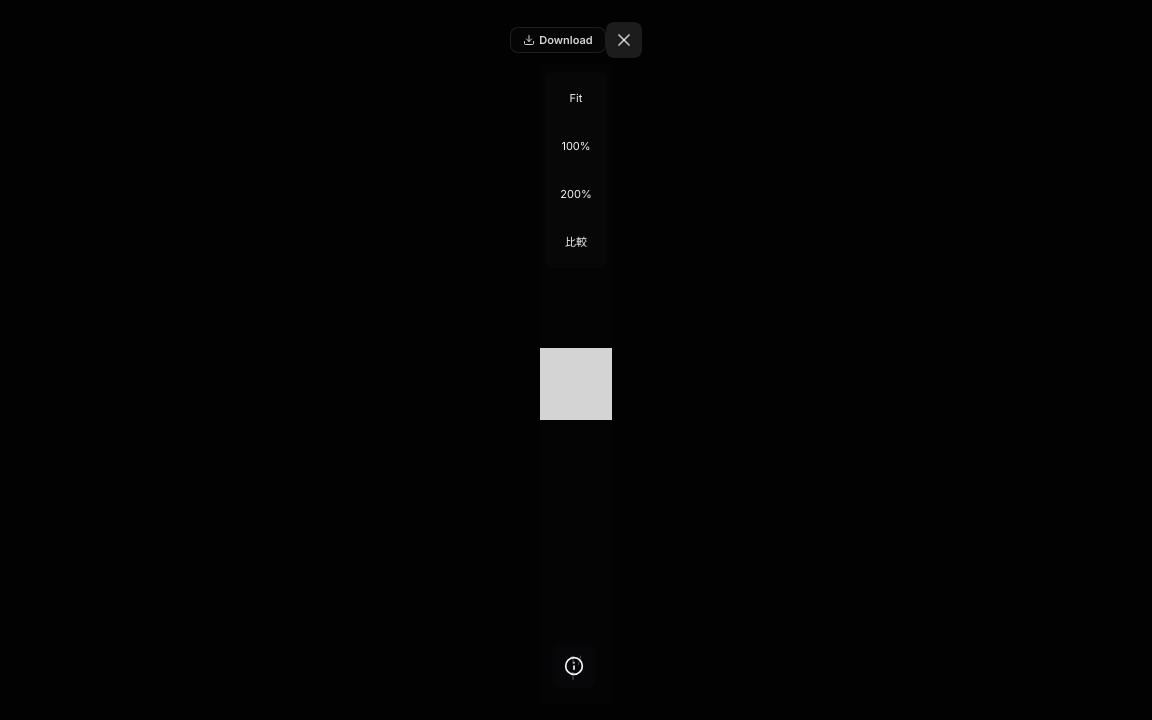
Test: HistoryModalPreview › fetches server metadata when not found in localStorage
Click the button named "show info".
click(574, 666)  # box [552,644,596,688]
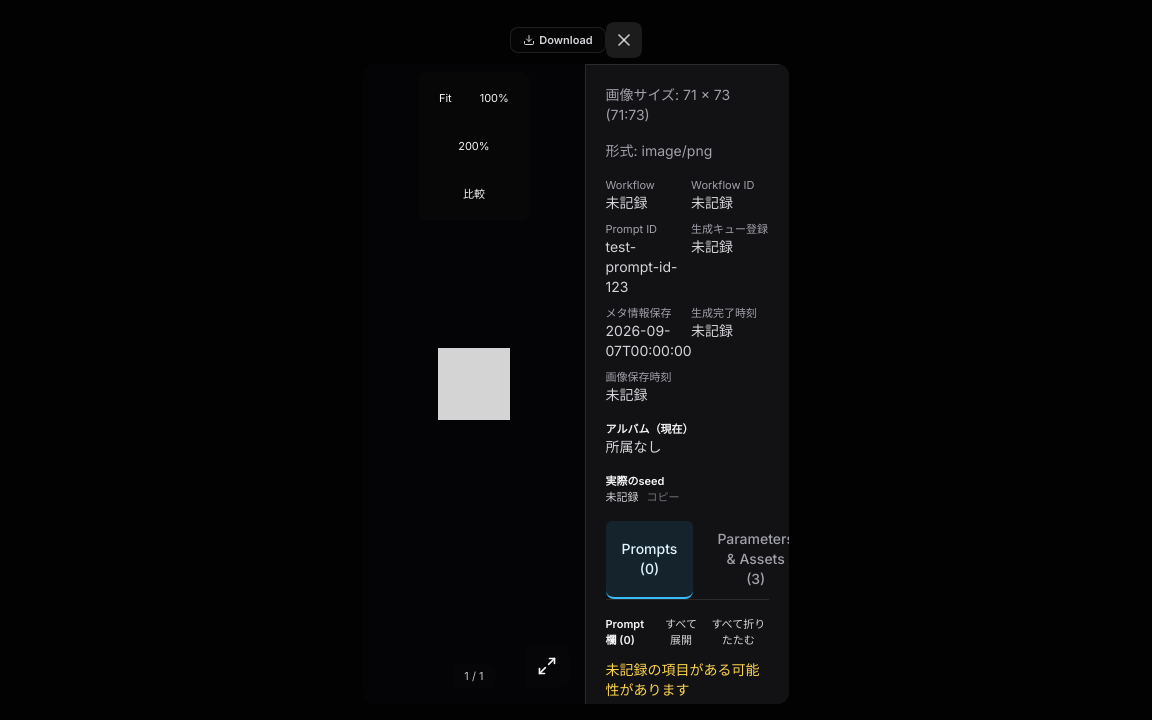
Click the tab "Parameters & Assets (3)".
click(756, 560)  # box [701,521,810,599]
(page scrolled)
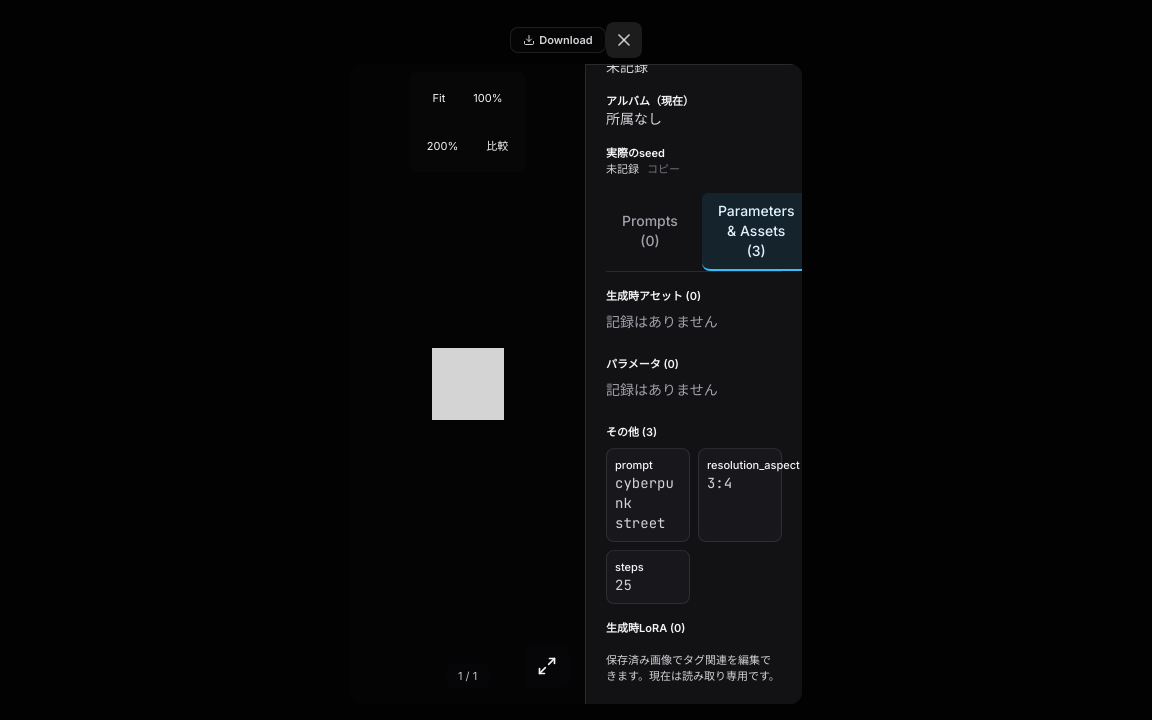
Check: the text "cyberpunk street" is shown, box [615,473,681,533]
Check: the text "3:4" is shown, box [707,474,732,492]
Check: the text "25" is shown, box [615,576,632,594]
